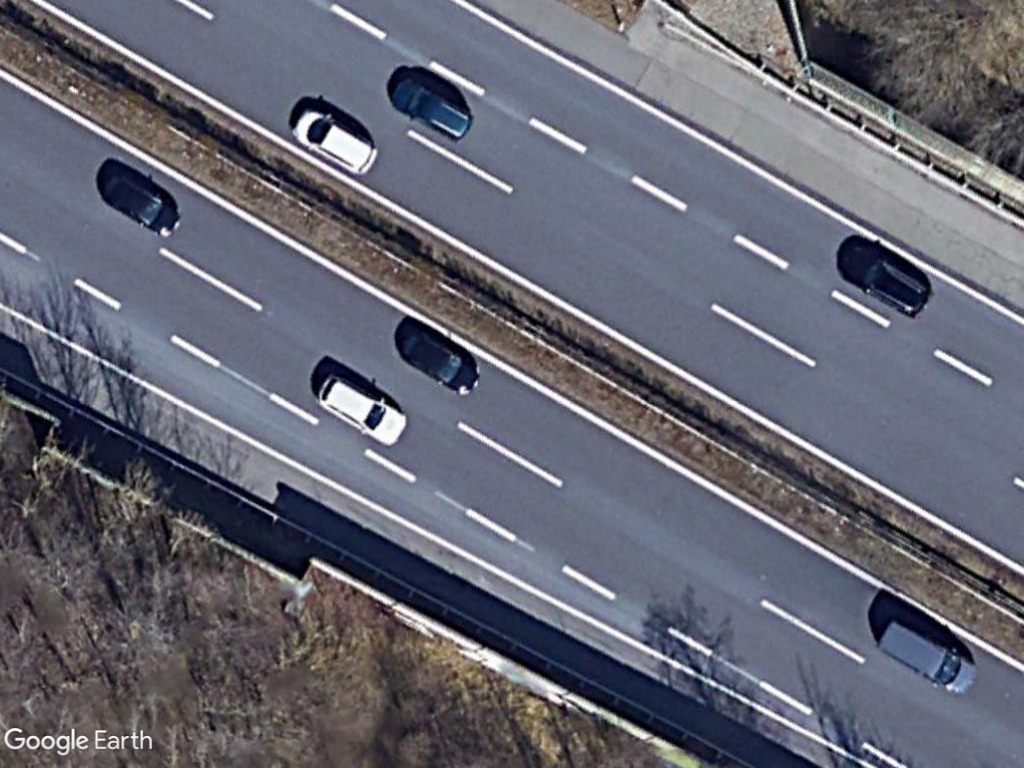car: (312, 372, 408, 447), (837, 243, 934, 316), (292, 104, 381, 179), (398, 326, 484, 395), (390, 76, 475, 142), (101, 174, 185, 240)
van: (873, 618, 979, 697)
